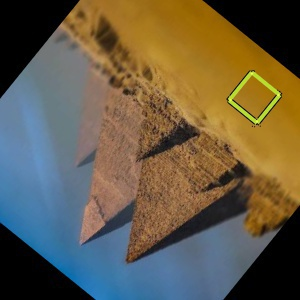square: (226, 65, 283, 127)
